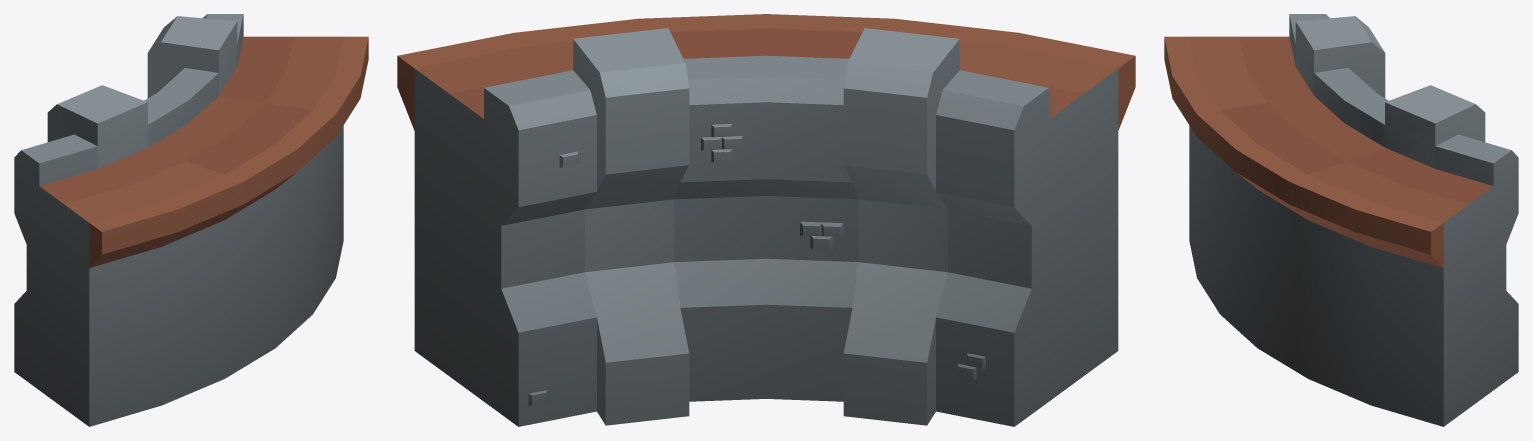
Rendered from H_wall_corner_A_inside.glb.
3 renders of one model, left to right at view 1: azimuth 30°, elevation 25°; view 2: azimuth 150°, elevation 25°; view 3: azimuth 270°, elevation 25°, orthographic. The views are drawn at different scales.
Parts seen in each view (by area): view 1: wall_corner_A_inside; view 2: wall_corner_A_inside; view 3: wall_corner_A_inside.
Part boxes in pixels (bbox=[...]): wall_corner_A_inside: bbox=[14, 14, 368, 426]; wall_corner_A_inside: bbox=[397, 14, 1135, 426]; wall_corner_A_inside: bbox=[1164, 14, 1518, 426].
Size of the model in its own units: 1.85 by 1.1 by 1.42.
